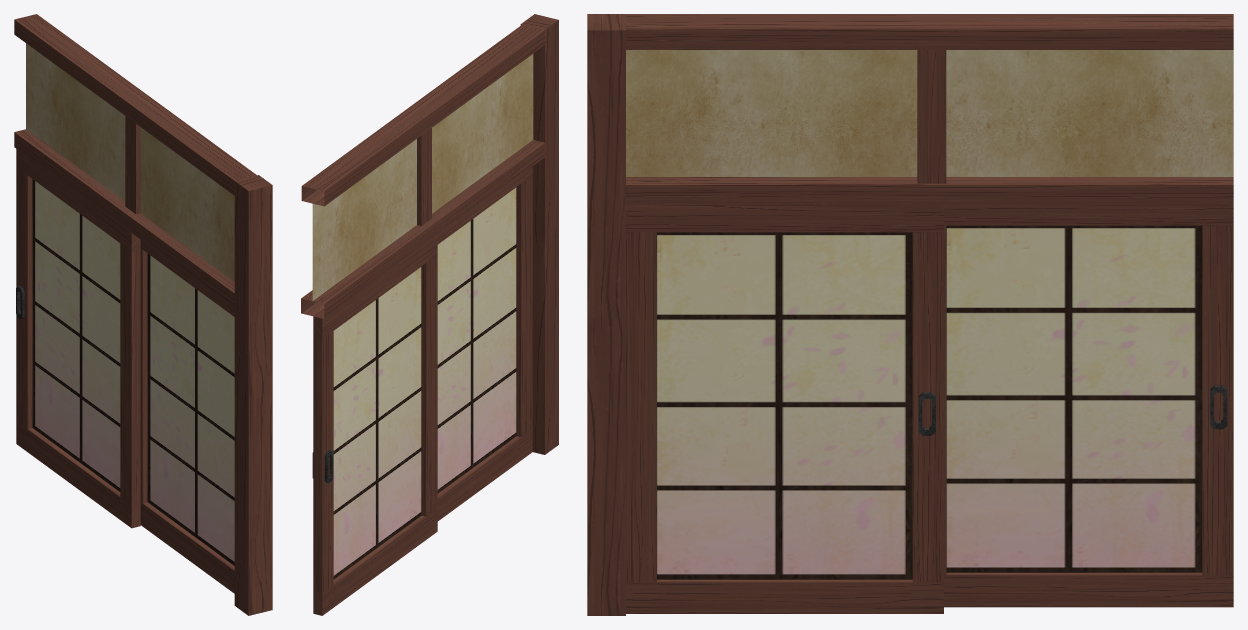
The model's file is set_door.fbx.
3 renders of one model, left to right at view 1: azimuth 30°, elevation 25°; view 2: azimuth 150°, elevation 25°; view 3: azimuth 270°, elevation 25°, orthographic. The views are drawn at different scales.
Parts seen in each view (by area): view 1: SM_doorWall, SM_doorR, SM_doorL; view 2: SM_doorWall, SM_doorR, SM_doorL; view 3: SM_doorWall, SM_doorL, SM_doorR.
Boxes of the visible parts, x1,y1,x2,y2 form: SM_doorWall: (14, 14, 272, 615); SM_doorR: (16, 149, 140, 528); SM_doorL: (140, 240, 234, 593); SM_doorWall: (301, 14, 558, 454); SM_doorR: (312, 236, 437, 615); SM_doorL: (437, 167, 532, 521); SM_doorWall: (587, 14, 1233, 615); SM_doorL: (626, 205, 943, 613); SM_doorR: (944, 205, 1233, 607).
Bounding box in the file's own units: 1825 × 30000 × 30000.
